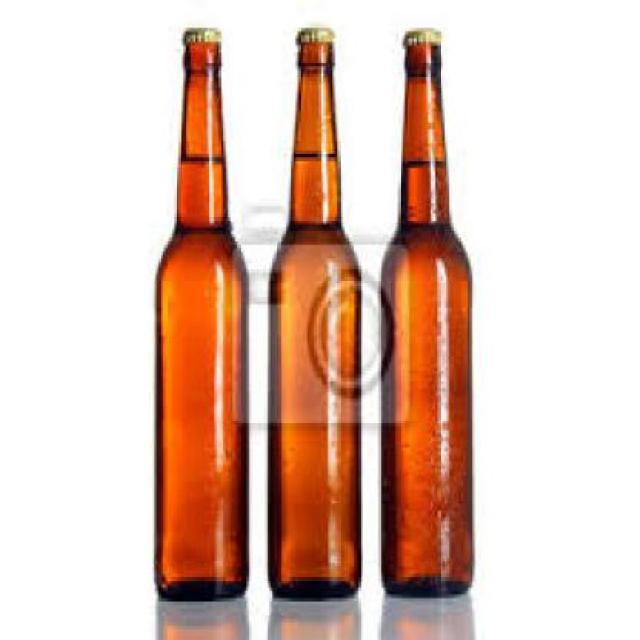kaca: (264, 39, 358, 598), (377, 38, 472, 591), (153, 43, 244, 595)
